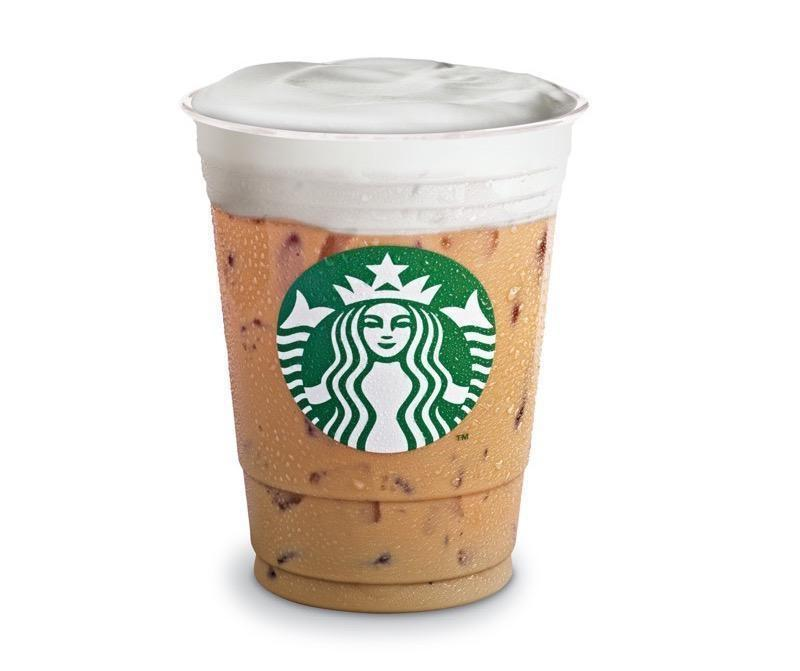cup-disposable: (179, 51, 590, 617)
